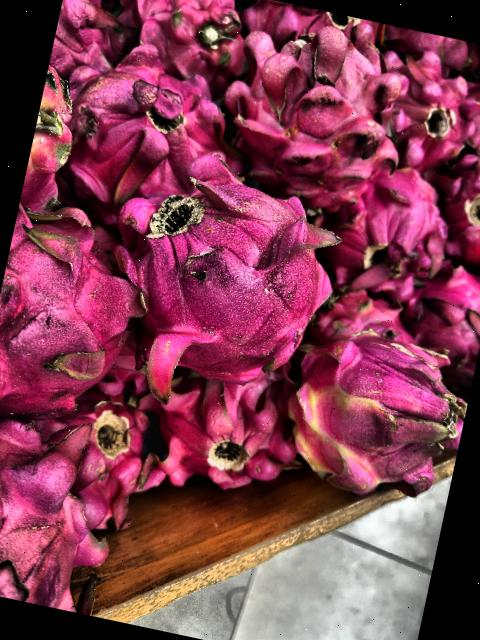buah-naga-belum-matang: (264, 312, 478, 508)
buah-naga-matang: (96, 147, 356, 385), (48, 40, 253, 222), (214, 8, 406, 195), (0, 195, 161, 418), (0, 398, 127, 614), (144, 358, 311, 495), (325, 148, 455, 302), (57, 382, 171, 520), (368, 46, 480, 166), (110, 0, 254, 89), (18, 60, 86, 220), (407, 259, 480, 376), (318, 277, 422, 353), (243, 0, 380, 56), (48, 0, 129, 88), (427, 142, 480, 263), (453, 67, 480, 175)
